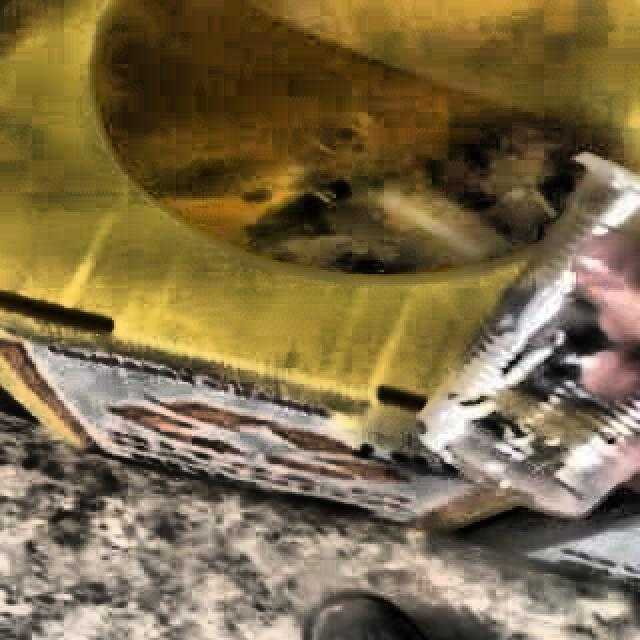plastic: (416, 158, 640, 519)
